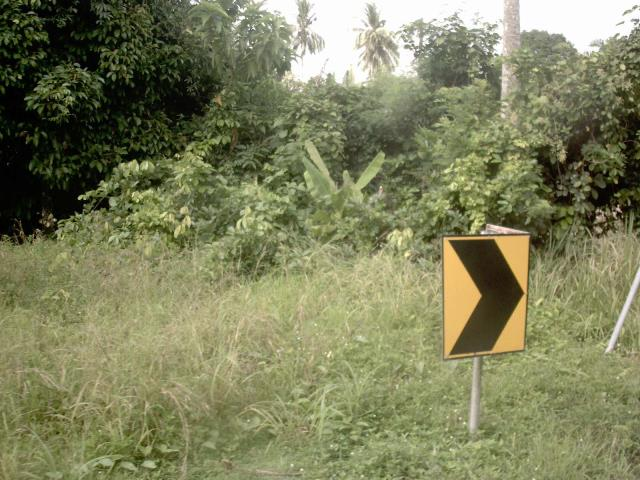traffic_sign: (426, 217, 541, 374)
